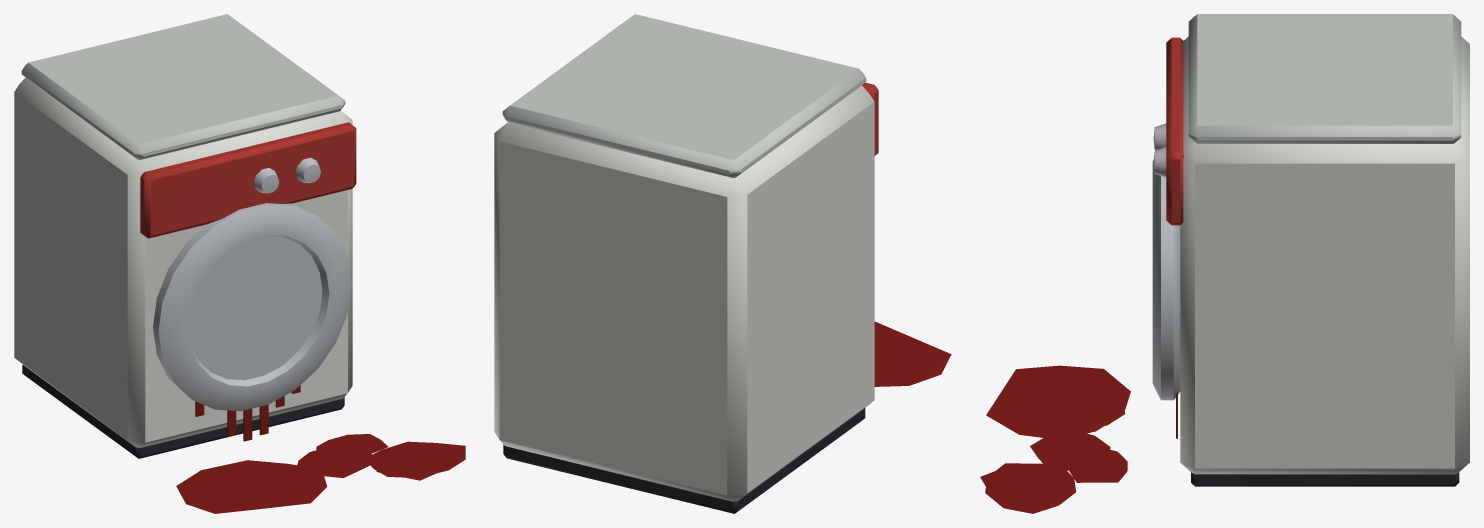
File: washer_red.glb
3 renders of one model, left to right at view 1: azimuth 30°, elevation 25°; view 2: azimuth 150°, elevation 25°; view 3: azimuth 270°, elevation 25°, orthographic. The views are drawn at different scales.
Visible parts, largest first — view 1: washer_red; view 2: washer_red; view 3: washer_red.
Part boxes in pixels (x1,y1,x2,y2): washer_red: (14, 14, 465, 513); washer_red: (494, 14, 951, 513); washer_red: (980, 14, 1469, 513).
Size of the model in its own units: 1.67 by 1.87 by 2.3.
